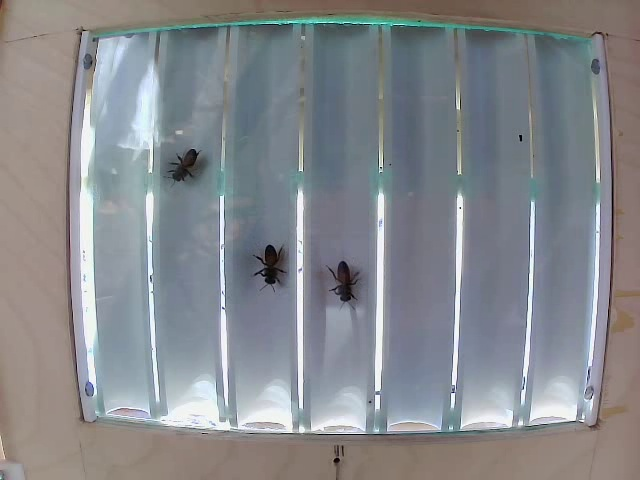bee: (310, 247, 371, 317), (153, 133, 201, 176), (253, 236, 283, 285)
